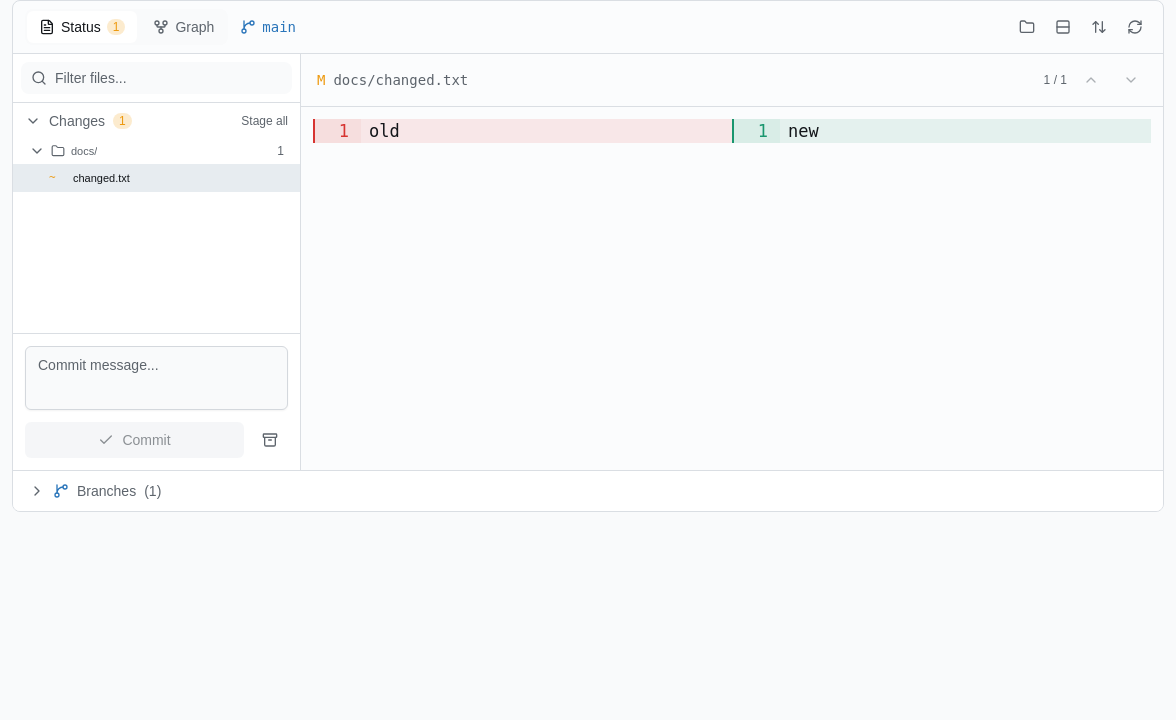
Test case: a graph commit opens its changed files and diff at the profile diff size
Click the button "Graph" at (184, 27), box x1=141 y1=11 x2=226 y2=43
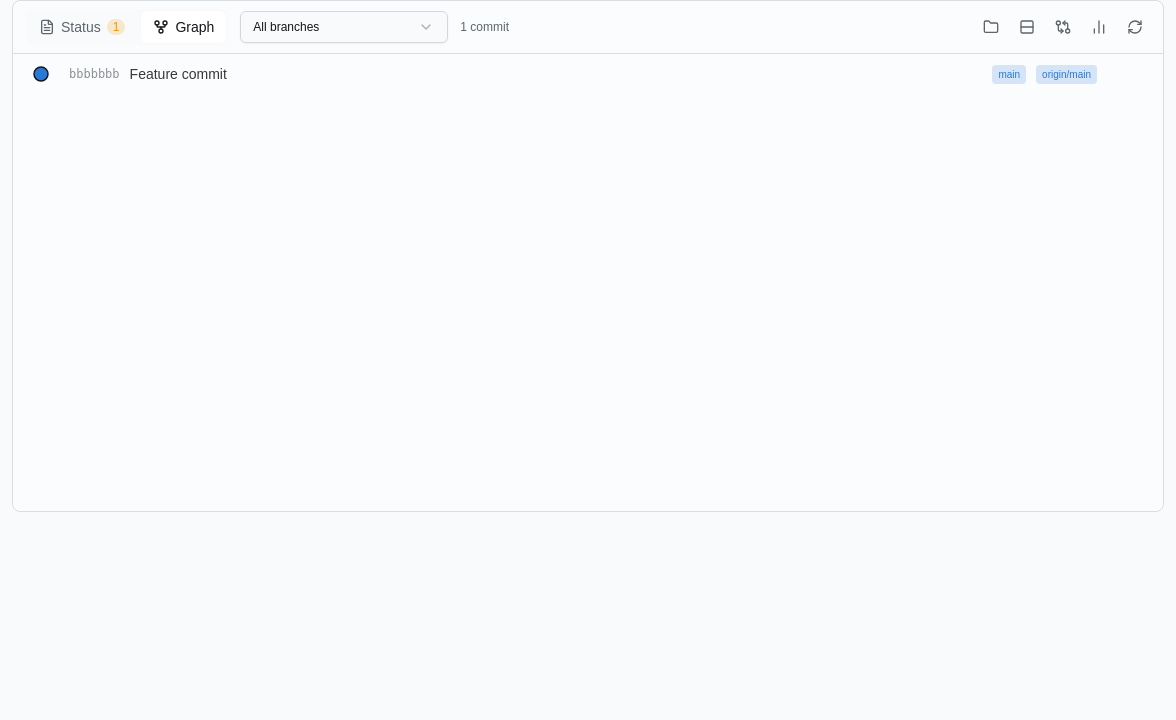
Result: the list named "Commits" shows "origin/main"
Click the button "bbbbbbb Feature commit main origin/main" at (94, 74), box x1=13 y1=54 x2=1163 y2=94
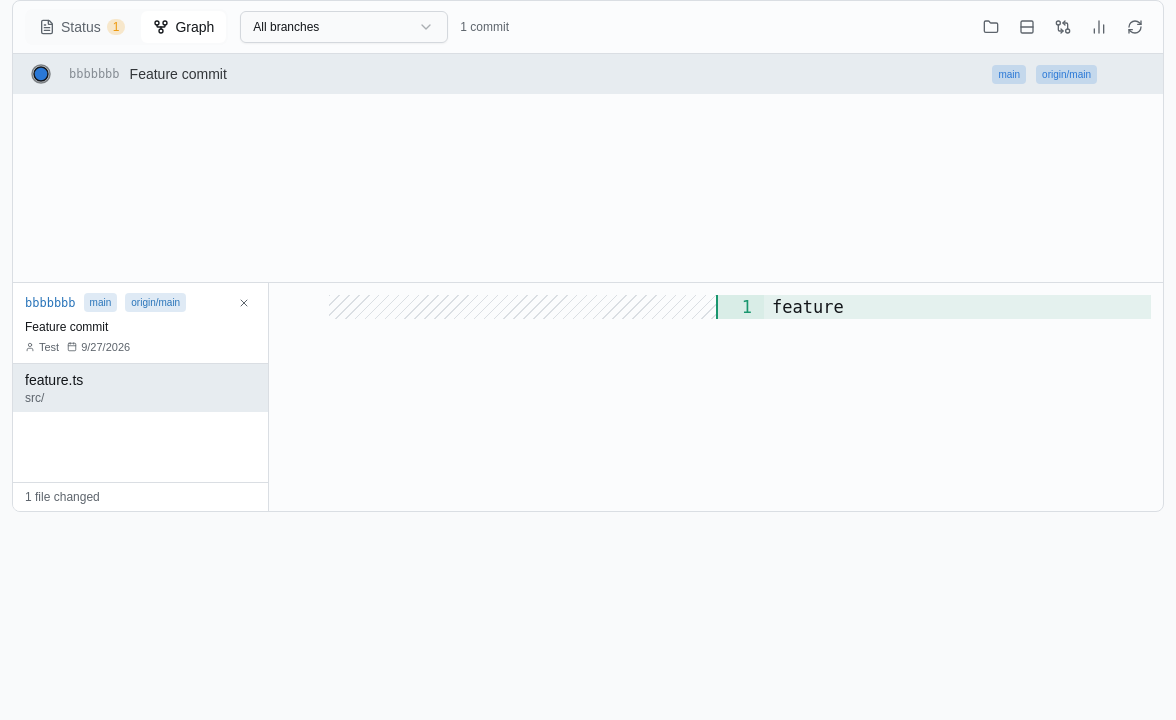
Result: the element named "Git comparison" shows "feature.ts" at x1=13 y1=364 x2=268 y2=412
Result: the element named "Git comparison" shows "1 file changed" at x1=13 y1=282 x2=1163 y2=511
